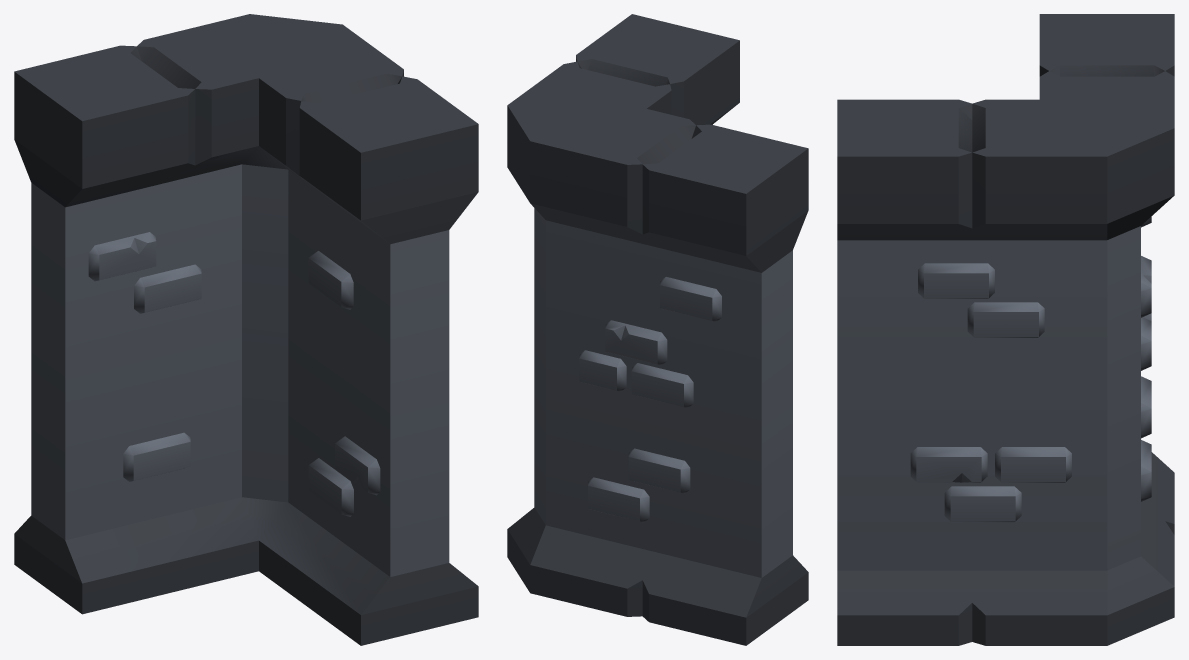
Rendered from wall_corner.glb.
The picture shows the model from 3 angles, left to right: view 1: azimuth 30°, elevation 25°; view 2: azimuth 150°, elevation 25°; view 3: azimuth 270°, elevation 25°; orthographic projection. The views are drawn at different scales.
Parts seen in each view (by area): view 1: wall_corner; view 2: wall_corner; view 3: wall_corner.
Part boxes in pixels (box(x1,y1,x2,y2)): wall_corner: box(14, 14, 478, 645); wall_corner: box(507, 14, 808, 645); wall_corner: box(837, 14, 1174, 645).
Bounding box in the file's own units: 2.5 × 4 × 2.5.
1 material, 1 textured.
